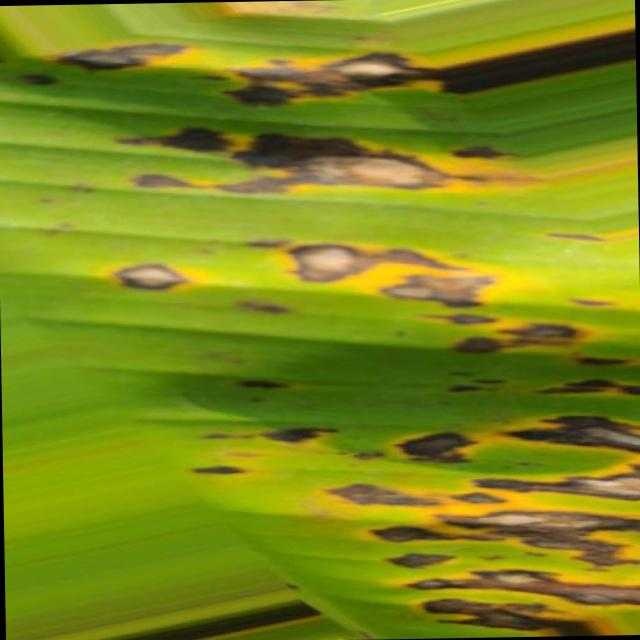Banana_Yellow_Sigatoka: (66, 23, 509, 318), (401, 327, 640, 637)
